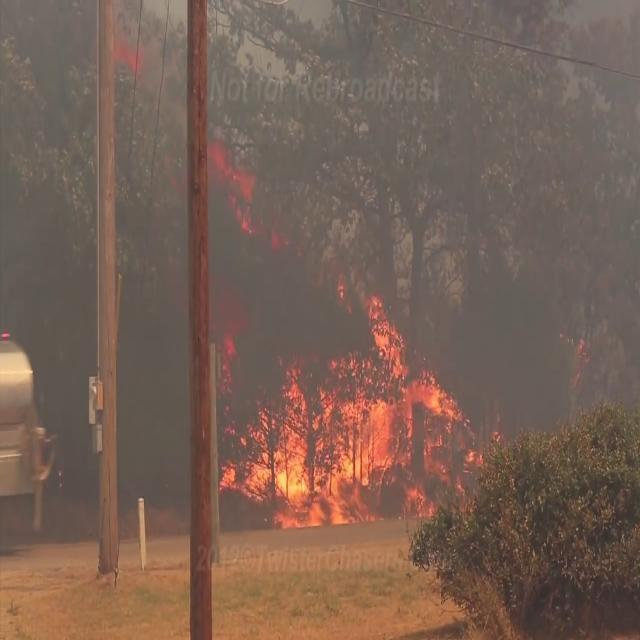Fire: (216, 281, 487, 529), (206, 136, 258, 234)
